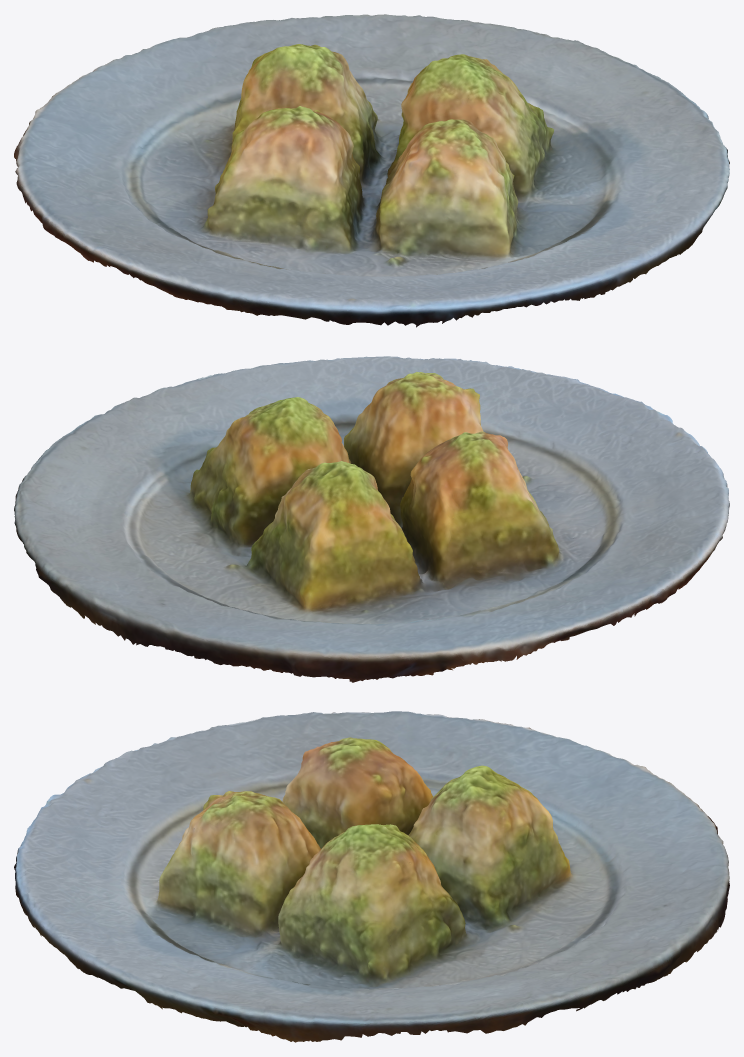
The model's file is baklava_ince_tabak.glb.
The picture shows the model from 3 angles, top to bottom: view 1: azimuth 30°, elevation 25°; view 2: azimuth 150°, elevation 25°; view 3: azimuth 270°, elevation 25°; orthographic projection.
Parts seen in each view (by area): view 1: Object_2; view 2: Object_2; view 3: Object_2.
Boxes of the visible parts, x1,y1,x2,y2 form: Object_2: [14, 14, 729, 327]; Object_2: [14, 356, 729, 682]; Object_2: [14, 711, 729, 1042].
Size of the model in its own units: 0.2255 by 0.0411 by 0.2244.
1 material, 1 textured.
